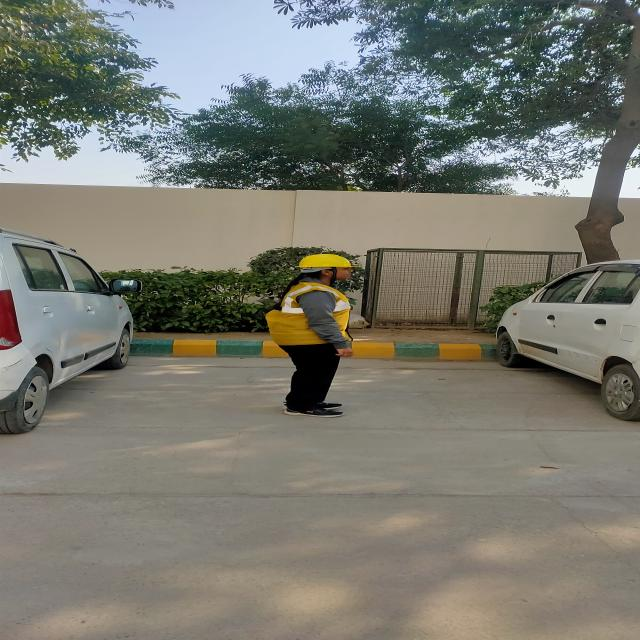safe: (267, 254, 359, 417)
